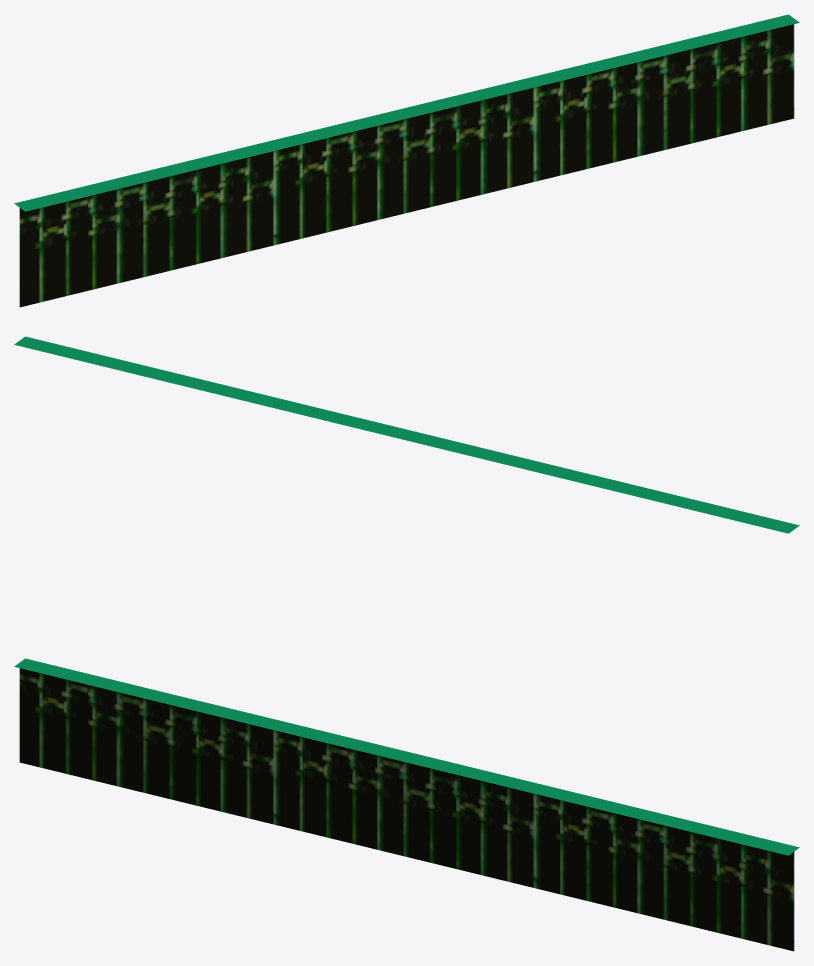
The model's file is Geländer4Hoch [GrünesMetall]_300.glb.
The picture shows the model from 3 angles, top to bottom: view 1: azimuth 30°, elevation 25°; view 2: azimuth 150°, elevation 25°; view 3: azimuth 330°, elevation 25°; orthographic projection.
Parts seen in each view (by area): view 1: pPlaneShape223, pPlaneShape224; view 2: pPlaneShape224; view 3: pPlaneShape223, pPlaneShape224.
Part boxes in pixels (x1=…): pPlaneShape223: x1=19, y1=24, x2=794, y2=307; pPlaneShape224: x1=14, y1=14, x2=799, y2=211; pPlaneShape224: x1=14, y1=336, x2=799, y2=533; pPlaneShape223: x1=19, y1=668, x2=794, y2=951; pPlaneShape224: x1=14, y1=658, x2=799, y2=855.
Bounding box in the file's own units: 0.9614 × 0.1185 × 0.0243.
Materials: 2 (1 with a texture image).
